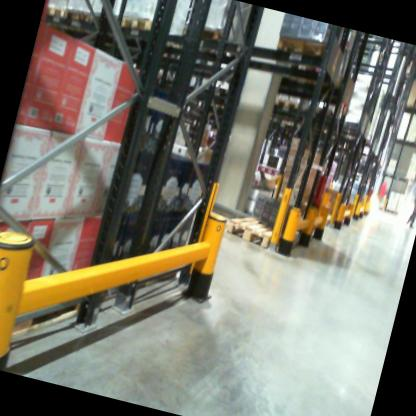pallet: (0, 260, 99, 361), (220, 205, 310, 260), (271, 27, 346, 90), (171, 17, 244, 71), (112, 11, 159, 47), (86, 4, 125, 36), (61, 5, 90, 30), (44, 1, 71, 25), (274, 90, 302, 113), (204, 81, 234, 102)
